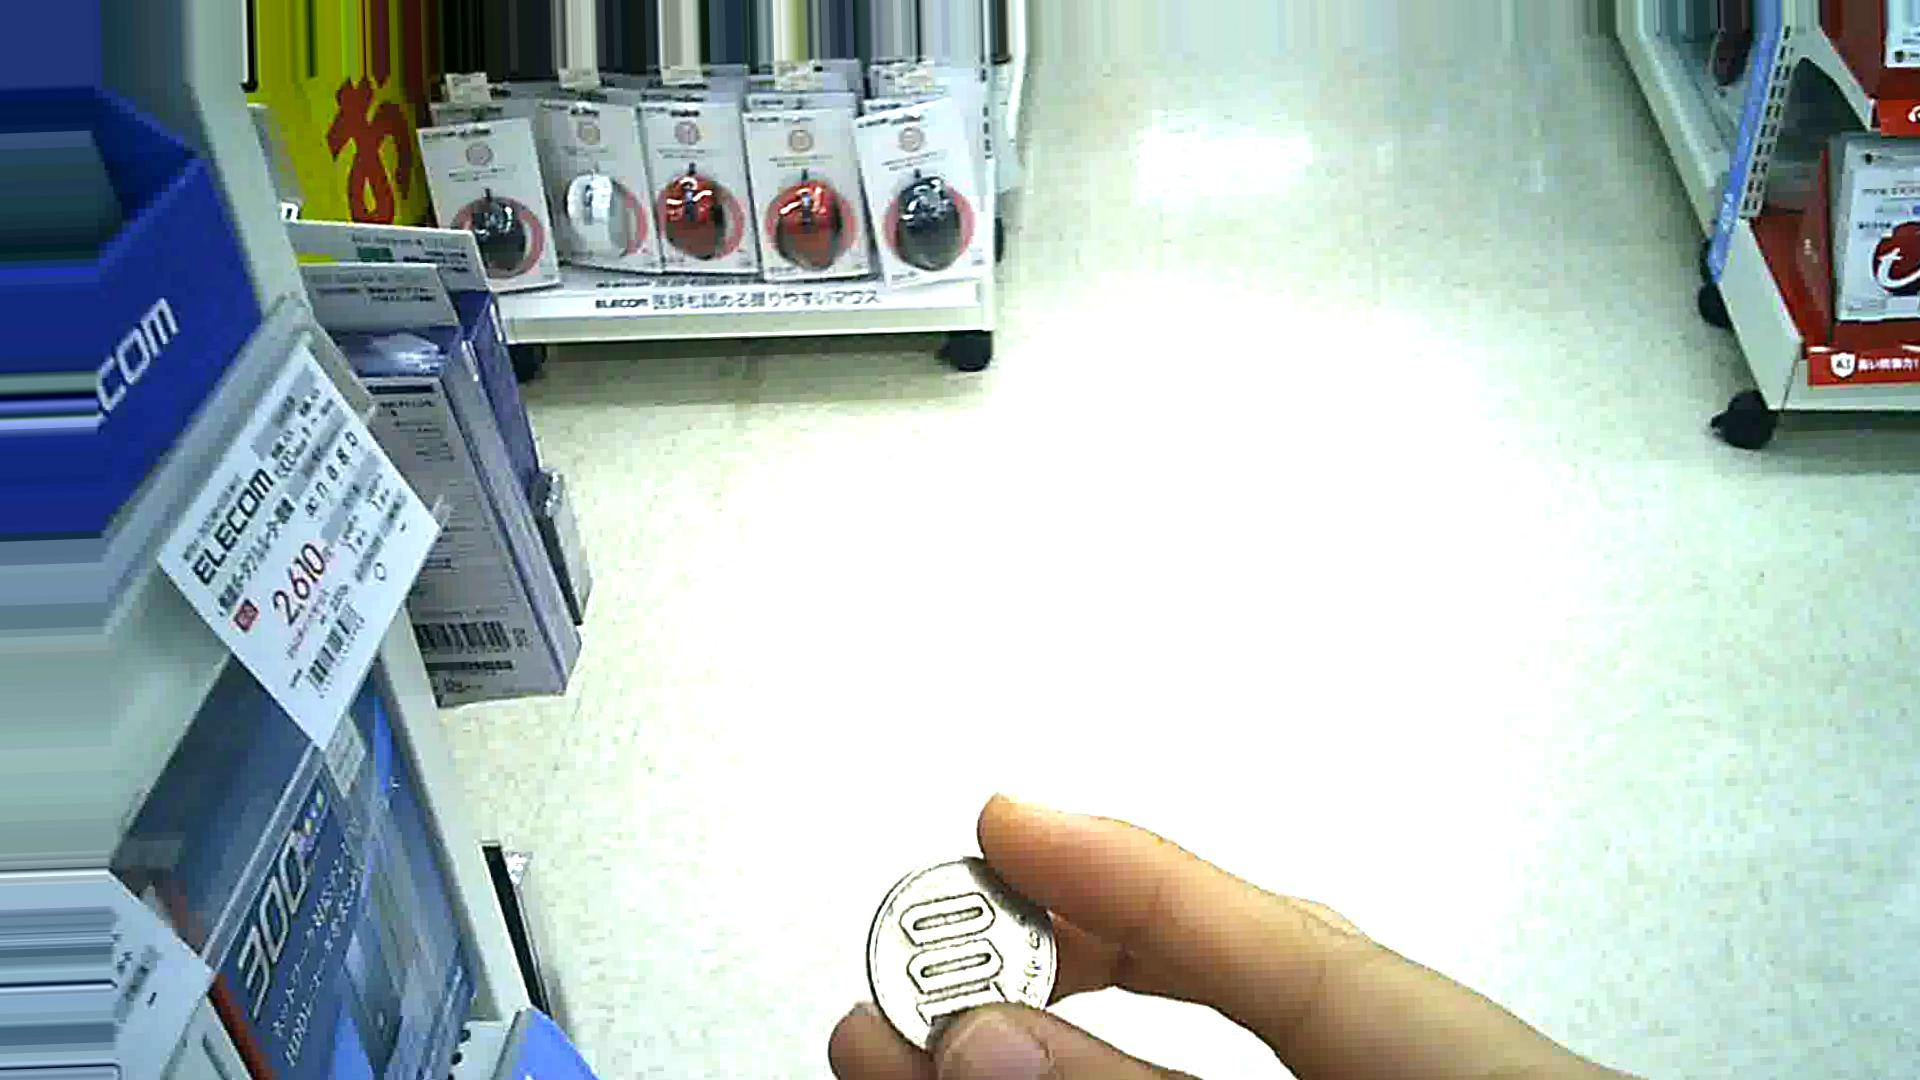100 Yen: (868, 861, 1060, 1065)
